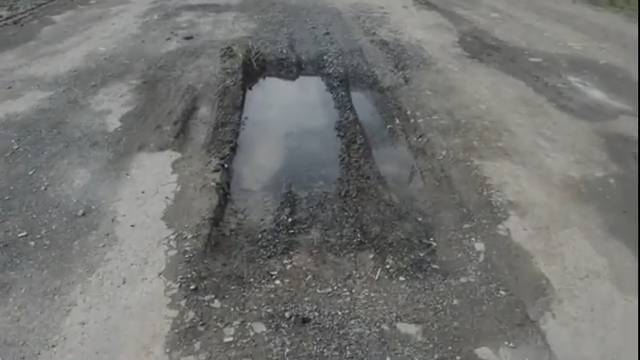pothole: (313, 50, 640, 360), (113, 242, 350, 360), (154, 136, 229, 256)
